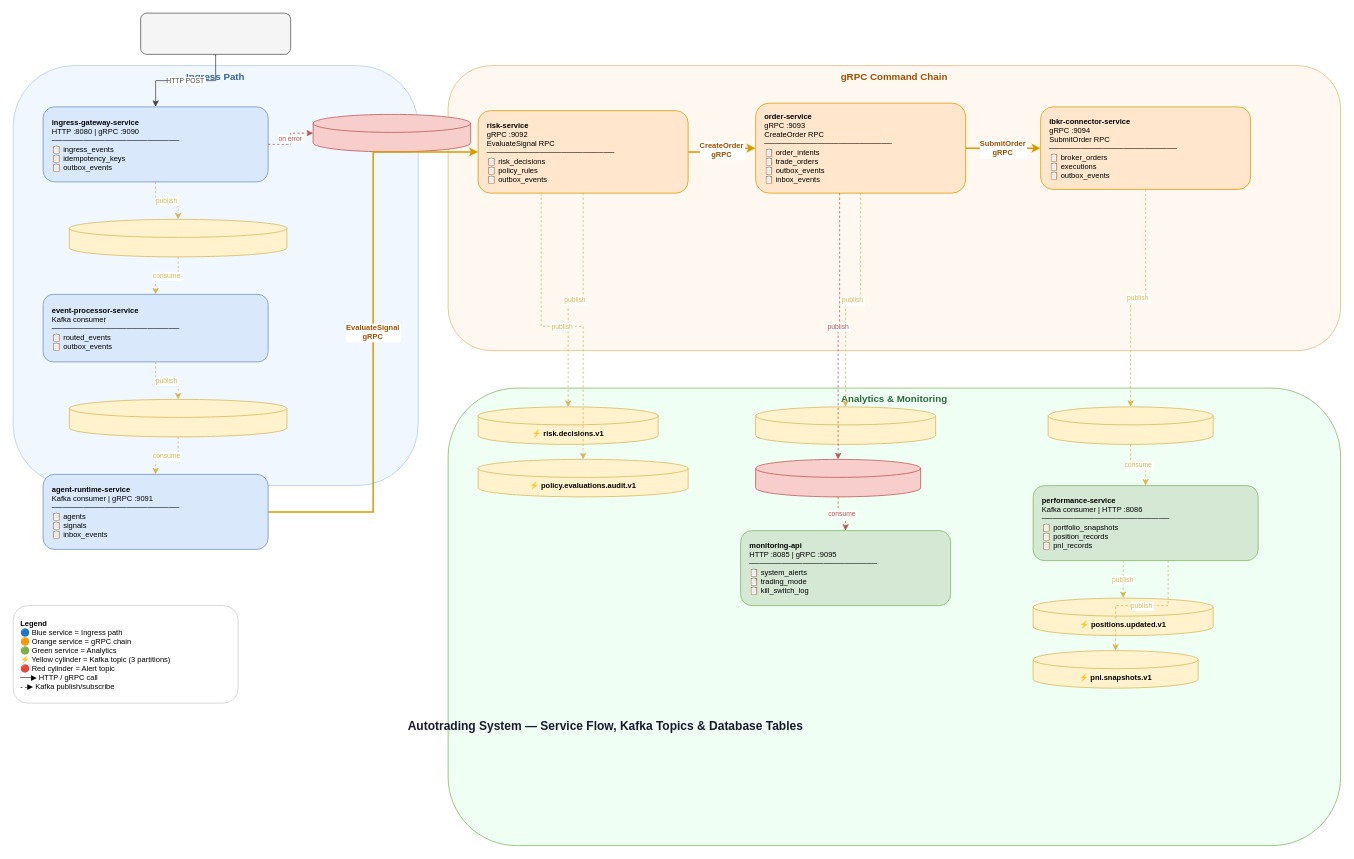
Image size: 1354x859. Some labels were removed from this diagram. Each missing label, with the centre of its shape:
"HTTP Client POST /v1/ingest" goes at (x=215, y=33).
"⚡ fills.executed.v1" goes at (x=1130, y=425).
"⚡ ingress.errors.v1" goes at (x=391, y=133).
"⚡ ingress.events.normalized.v1" goes at (x=178, y=238).
"⚡ orders.status.v1" goes at (x=845, y=425).
"⚡ system.alerts.v1" goes at (x=838, y=478).
"⚡ trade.events.routed.v1" goes at (x=178, y=418).
